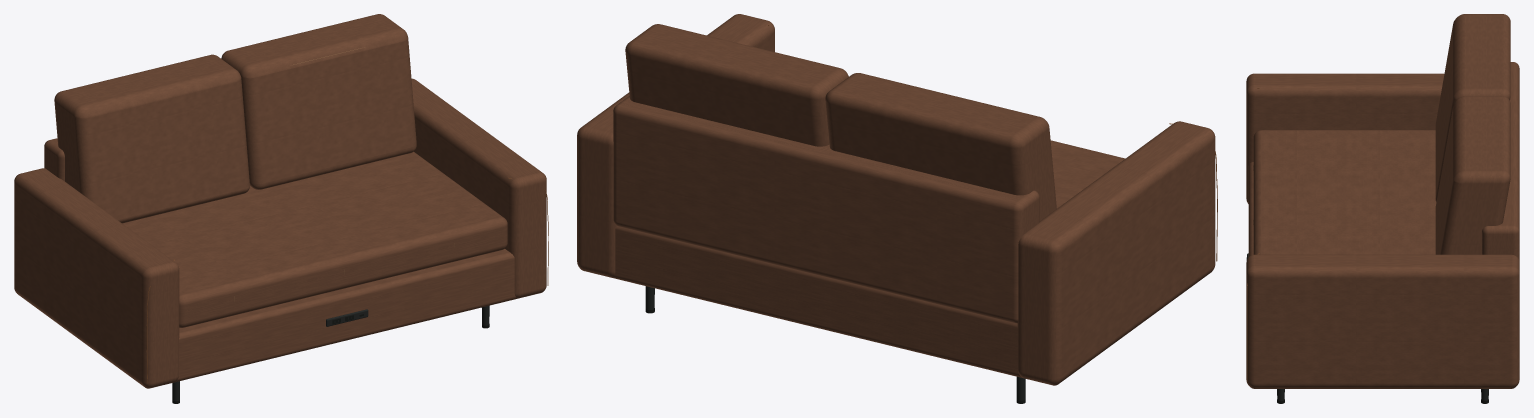
Rendered from psf-sofa-study-brown.glb.
The picture shows the model from 3 angles, left to right: view 1: azimuth 30°, elevation 25°; view 2: azimuth 150°, elevation 25°; view 3: azimuth 270°, elevation 25°; orthographic projection. The views are drawn at different scales.
Visible parts, largest first — view 1: single-seat-cushion, left-back-cushion, right-back-cushion, left-arm, upholstered-base, right-arm, rear-support-panel-inferred; view 2: rear-support-panel-inferred, left-arm, upholstered-base, left-back-cushion, right-back-cushion, right-arm, single-seat-cushion; view 3: right-arm, single-seat-cushion, left-arm, right-back-cushion, left-back-cushion, rear-support-panel-inferred, upholstered-base.
Part boxes in pixels (x1,y1,x2,y2): single-seat-cushion: (122, 151, 507, 327); left-back-cushion: (54, 54, 249, 223); right-back-cushion: (221, 14, 416, 189); left-arm: (14, 168, 179, 388); upholstered-base: (18, 249, 542, 388); right-arm: (411, 78, 546, 298); rear-support-panel-inferred: (44, 138, 64, 181); rear-support-panel-inferred: (613, 96, 1039, 323); left-arm: (1017, 121, 1215, 384); upholstered-base: (581, 226, 1211, 385); left-back-cushion: (825, 73, 1056, 220); right-back-cushion: (625, 24, 848, 146); right-arm: (577, 14, 774, 277); single-seat-cushion: (1050, 140, 1125, 208); right-arm: (1246, 254, 1519, 387); single-seat-cushion: (1253, 130, 1436, 254); left-arm: (1246, 73, 1444, 203); right-back-cushion: (1435, 96, 1510, 254); left-back-cushion: (1435, 14, 1510, 201); rear-support-panel-inferred: (1482, 62, 1519, 261); upholstered-base: (1248, 162, 1515, 388).
Size of the model in its own units: 1.5 by 0.82 by 0.87.
5 materials, 1 textured.
